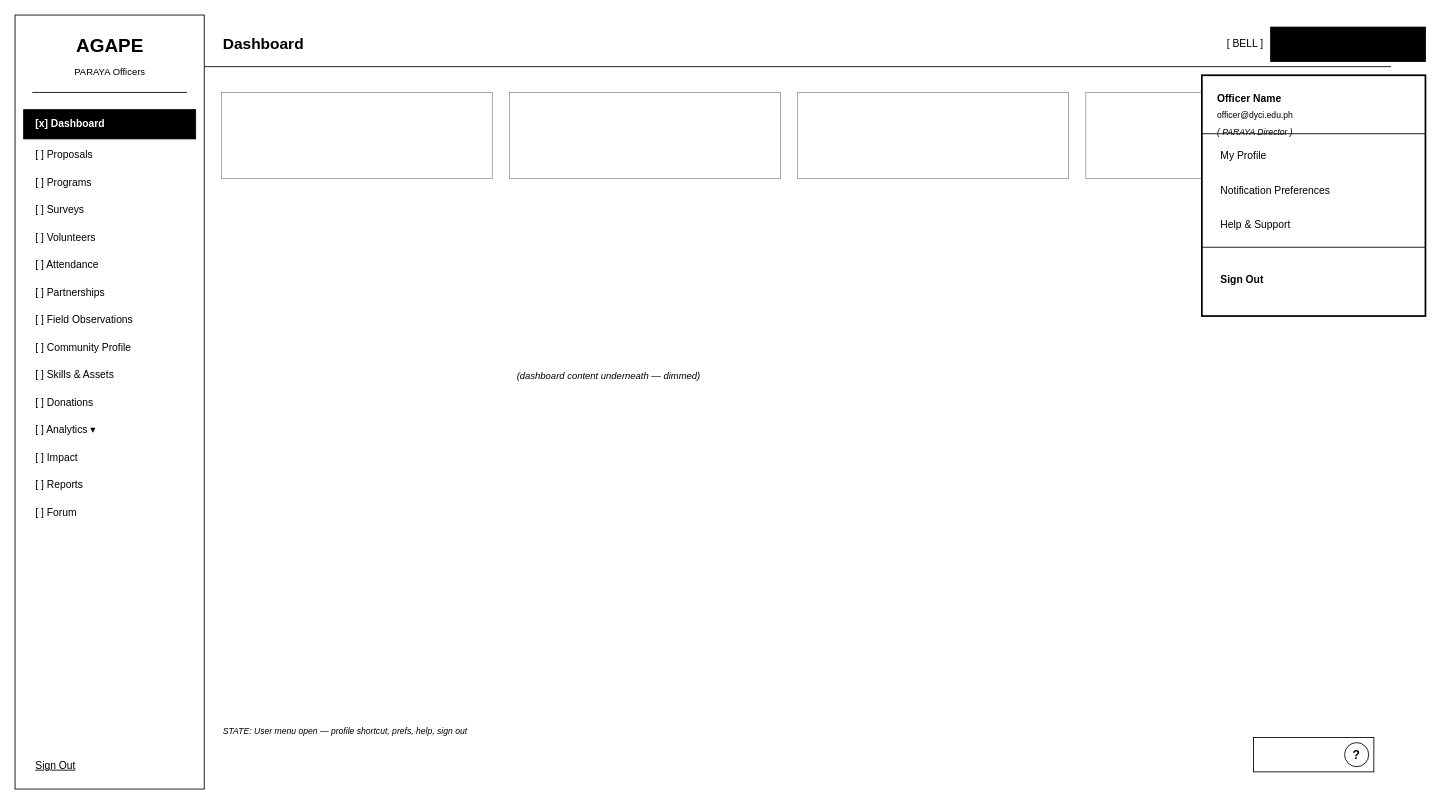
Image size: 1441x804. Some labels were removed from this diagram. Here are the shapes that lost their labels. From the top down, the box of each, then its label:
(1270, 26, 1425, 61): [ USER: Officer Name ▴ ]
(1253, 737, 1374, 772): [ AI CHATBOT ]
